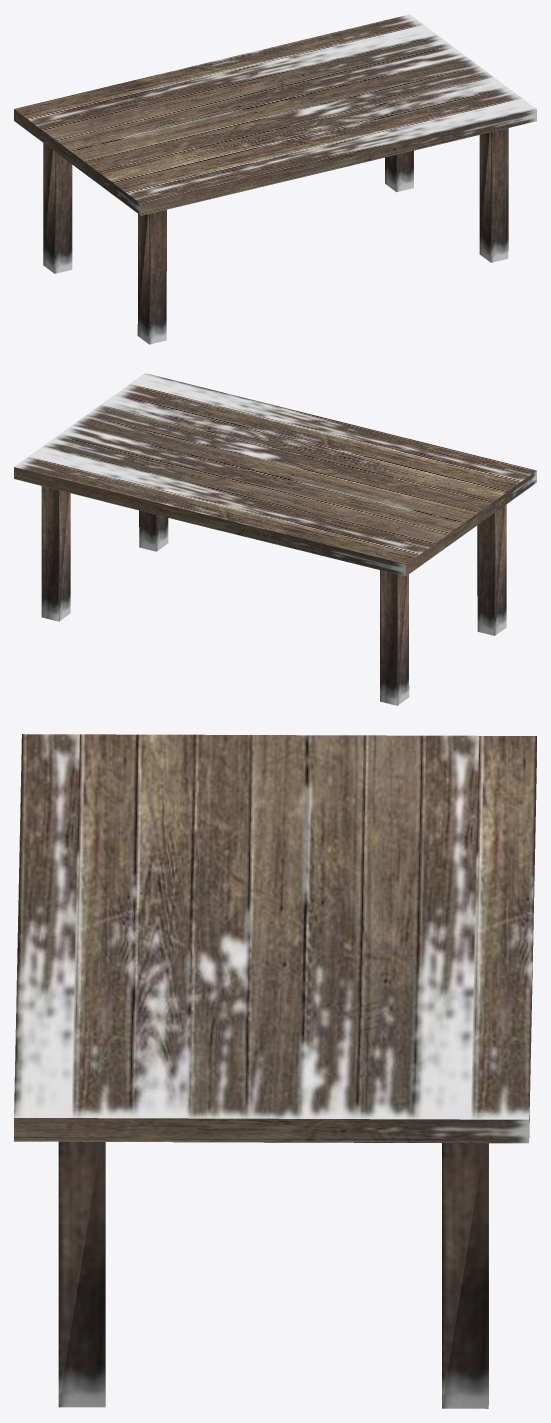
File: desk01.FBX
3 renders of one model, top to bottom at view 1: azimuth 30°, elevation 25°; view 2: azimuth 150°, elevation 25°; view 3: azimuth 270°, elevation 25°, orthographic. The views are drawn at different scales.
Visible parts, largest first — view 1: Object76, Object75, Object74, Object77, Object73, Object72, Object78; view 2: Object76, Object75, Object74, Object78, Object72, Object73, Object77; view 3: Object76, Object75, Object74, Object77, Object78.
Part boxes in pixels (x1,y1,x2,y2): Object76: [134, 14, 536, 136]; Object75: [14, 80, 252, 215]; Object74: [141, 124, 472, 215]; Object77: [479, 128, 508, 262]; Object73: [137, 209, 166, 344]; Object72: [43, 143, 72, 273]; Object78: [385, 150, 413, 192]; Object76: [14, 373, 345, 546]; Object75: [252, 470, 536, 576]; Object74: [209, 389, 535, 486]; Object78: [41, 486, 70, 621]; Object72: [380, 570, 409, 705]; Object73: [477, 504, 506, 635]; Object77: [139, 510, 168, 551]; Object76: [14, 852, 534, 1143]; Object75: [22, 734, 536, 926]; Object74: [15, 734, 276, 1055]; Object77: [58, 1141, 105, 1407]; Object78: [442, 1143, 488, 1408].
Bounding box in the file's own units: 54.56 × 20.2 × 31.27.
Materials: 2 (2 with a texture image).
